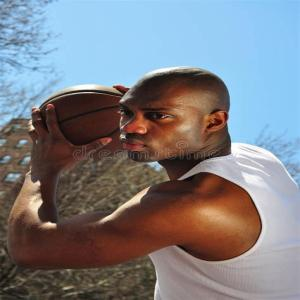Basket: (35, 82, 138, 162)
